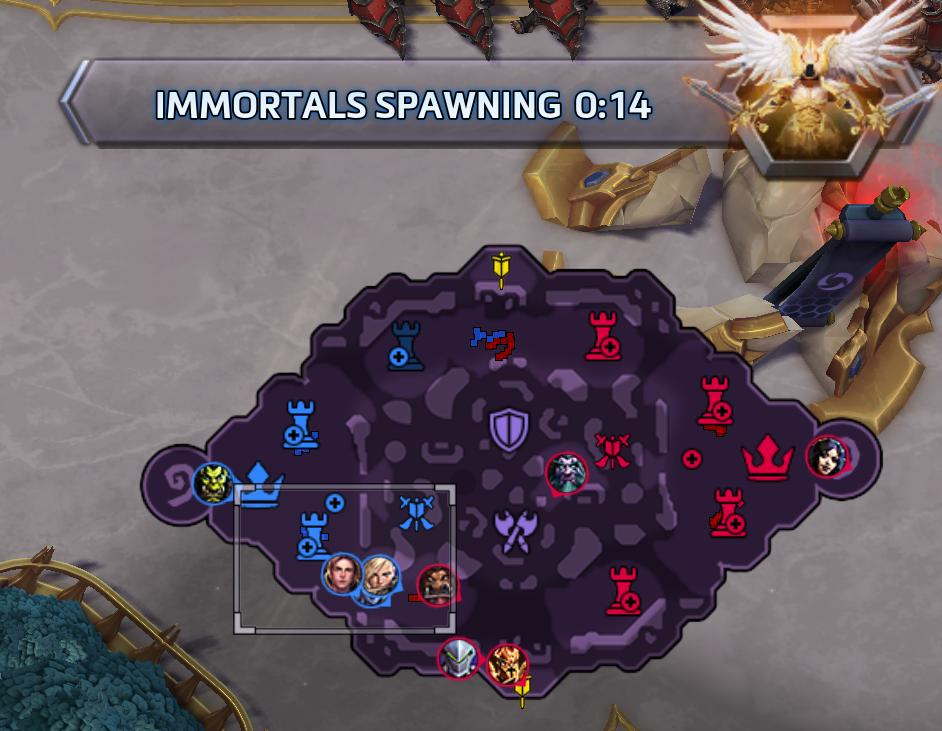blue nexus: (237, 458, 284, 507)
blue player: (319, 552, 362, 595), (191, 461, 233, 505), (359, 553, 401, 597)
blue tower: (283, 399, 323, 453), (385, 318, 424, 372), (299, 505, 330, 565)
red nexus: (739, 432, 797, 483)
red player: (804, 435, 849, 479), (544, 450, 587, 496), (485, 643, 529, 687), (415, 563, 458, 607), (437, 636, 479, 680)
red tower: (707, 485, 751, 541), (693, 374, 737, 429), (583, 307, 623, 367), (602, 564, 645, 615)
